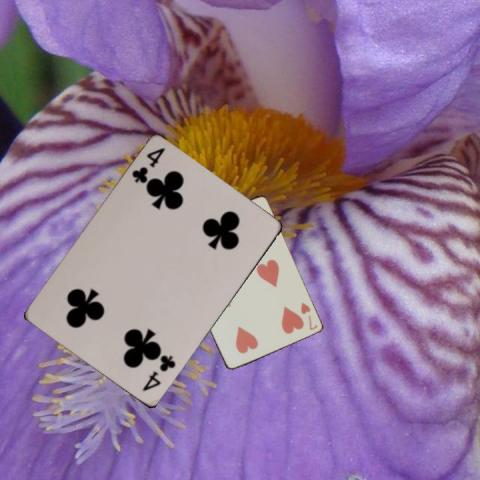4c: (128, 145, 167, 185), (140, 352, 177, 393)
7h: (297, 300, 319, 332)
